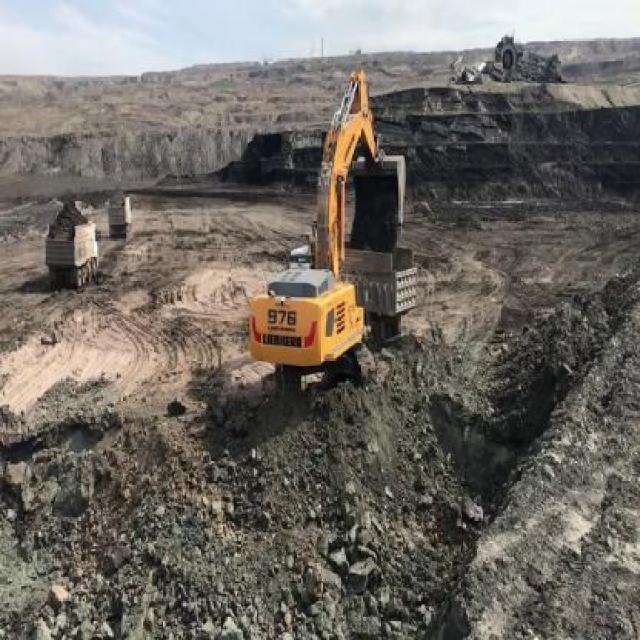Dump Truck: (330, 252, 418, 338), (45, 205, 100, 290), (108, 195, 132, 237)
Excavator: (247, 70, 416, 418)
